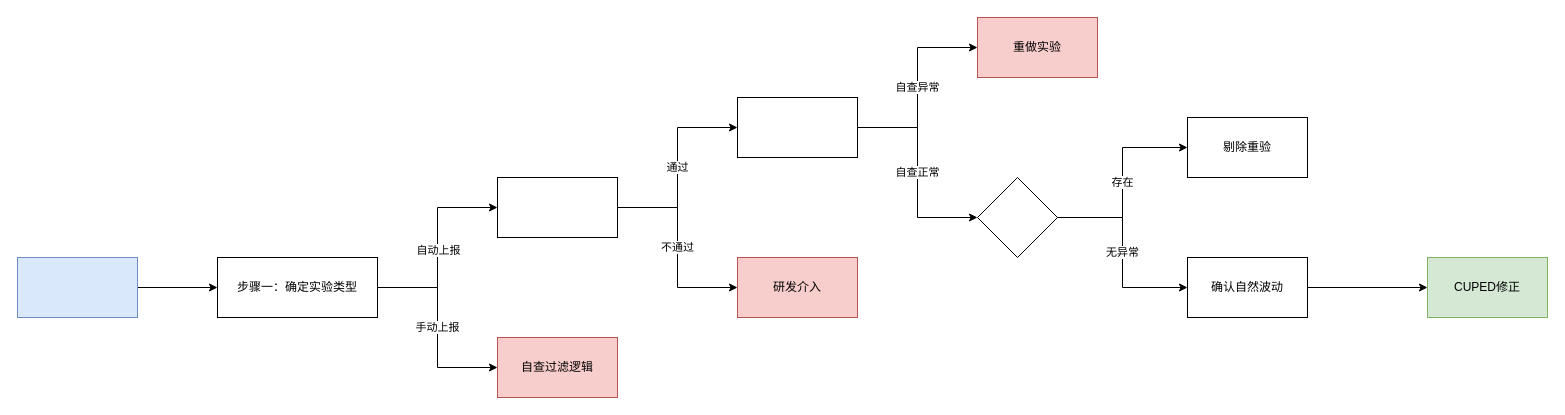
This 1565x415 diagram has some shape labels left out. The shapes that lost their labels are listed below. From the top down, each one's box as (x1, y1, x2, y2) in pixels, then its label:
(736, 96, 858, 158): AA校验
(496, 176, 618, 238): SRM校验
(976, 176, 1058, 258): 异常值
(16, 256, 138, 318): 开始
